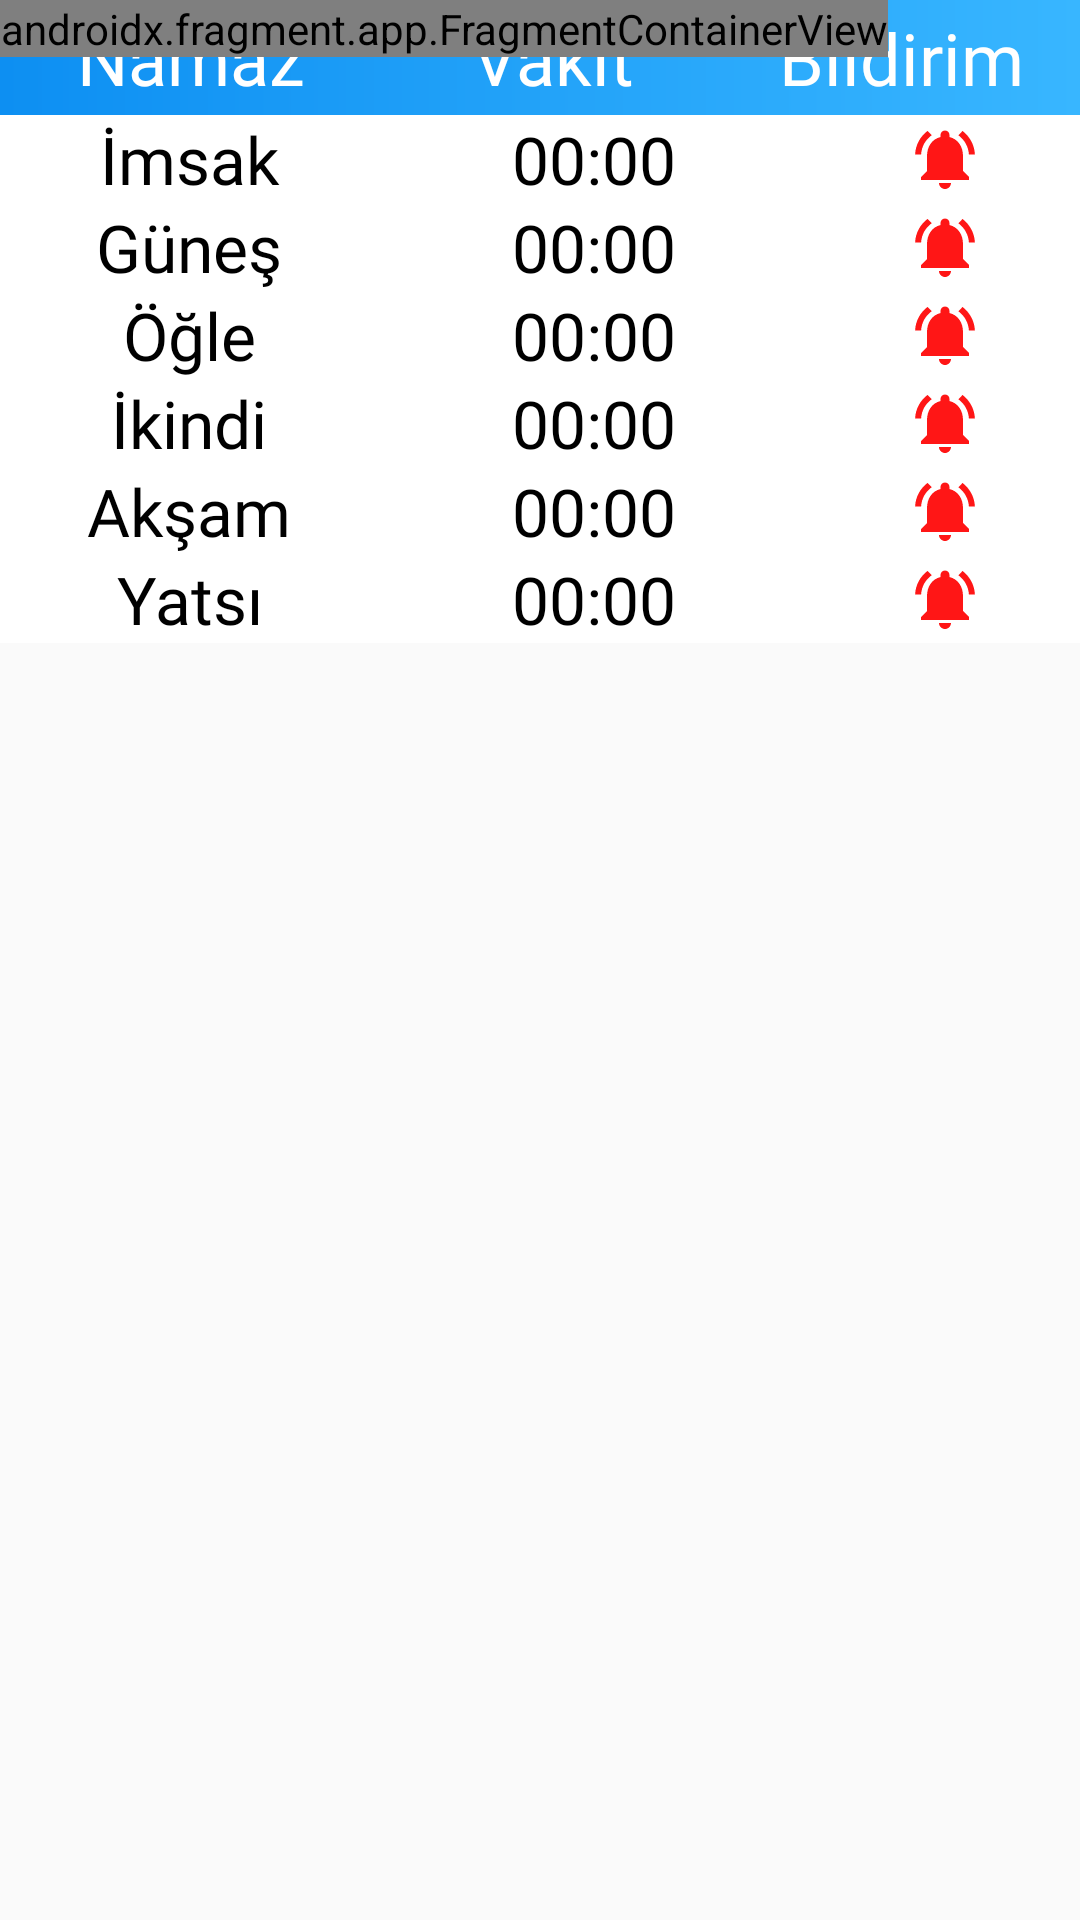

Icons on this 1080×1920 Android screen, each with the point to tap as point (x, y):
notifications: point (945, 159), point (945, 247), point (945, 335), point (945, 423), point (945, 511), point (945, 599)
